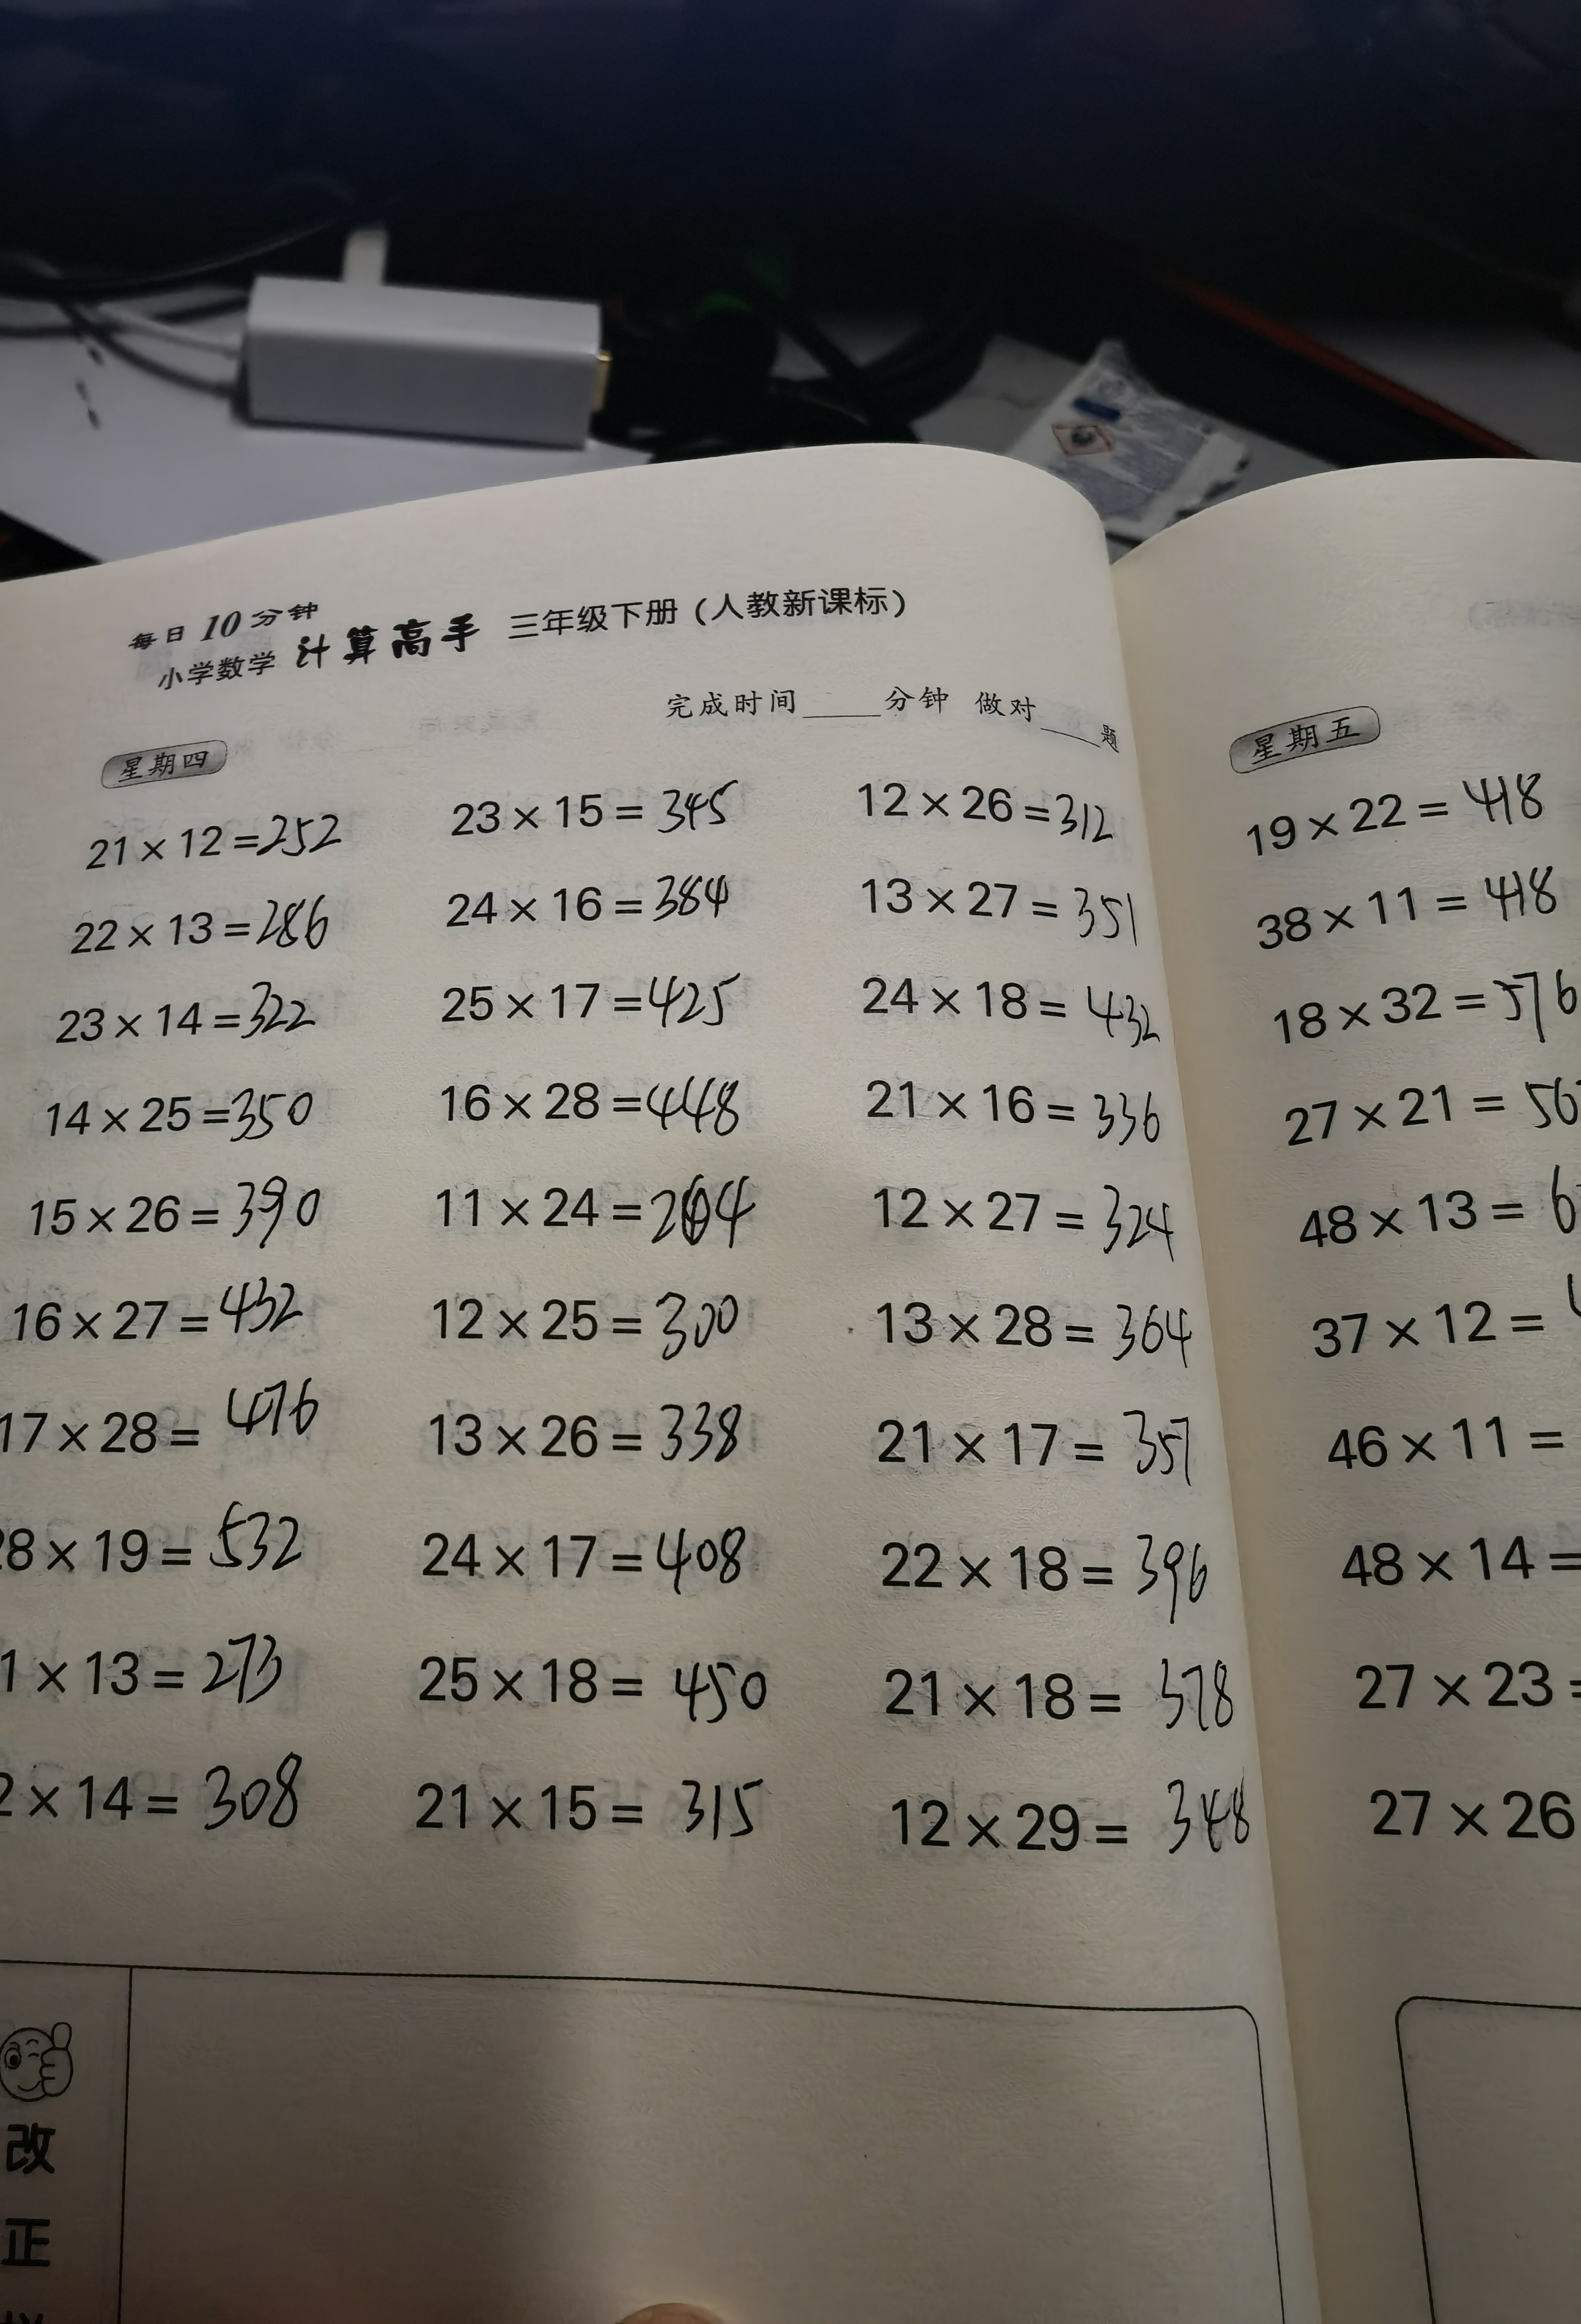equation: (388, 1752, 783, 1892), (877, 1631, 1230, 1773), (879, 1749, 1256, 1879), (392, 1618, 773, 1743), (409, 1486, 790, 1597), (884, 1502, 1214, 1627), (866, 1385, 1230, 1498), (868, 949, 1186, 1075), (425, 1163, 782, 1272), (5, 1736, 328, 1856), (431, 1376, 766, 1488), (431, 1052, 771, 1161), (427, 1271, 766, 1371), (858, 845, 1175, 948), (856, 741, 1143, 854), (873, 1281, 1207, 1378), (831, 1181, 1195, 1267), (5, 1618, 311, 1715), (16, 1505, 346, 1592), (861, 1078, 1200, 1158), (7, 1385, 335, 1466), (14, 1165, 341, 1242), (441, 868, 748, 948), (5, 1272, 316, 1346), (432, 963, 762, 1029), (37, 893, 341, 963), (39, 986, 330, 1053), (56, 805, 351, 870), (427, 780, 778, 833), (32, 1076, 330, 1138)
